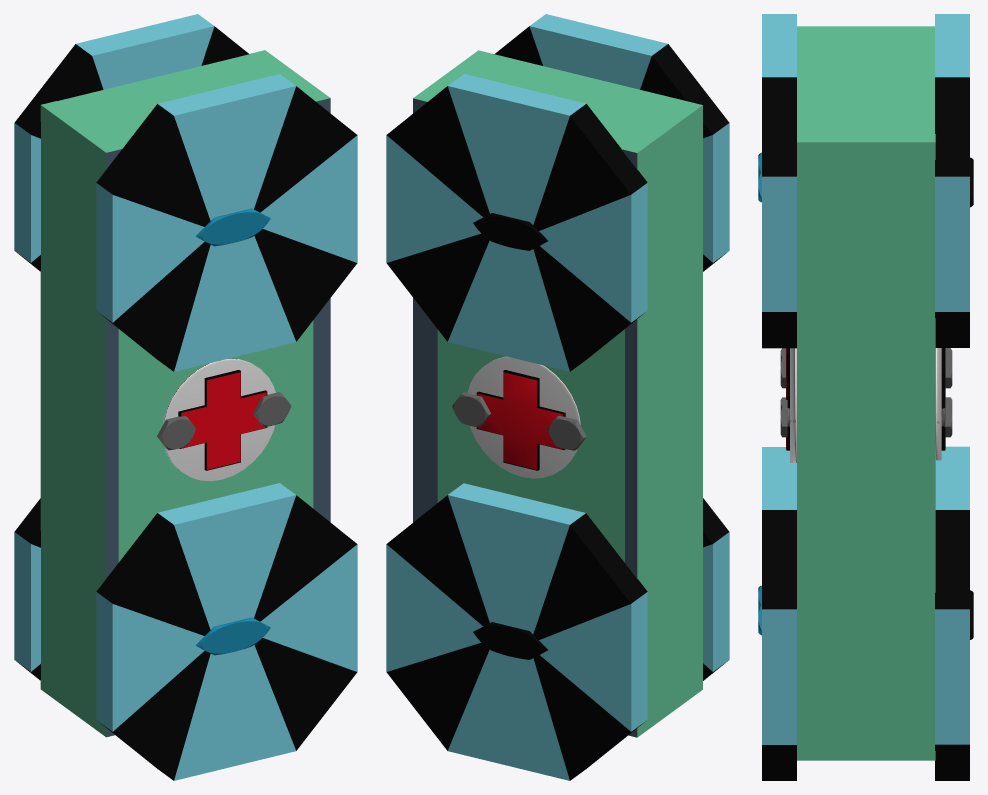
File: power up health.fbx
3 renders of one model, left to right at view 1: azimuth 30°, elevation 25°; view 2: azimuth 150°, elevation 25°; view 3: azimuth 270°, elevation 25°, orthographic. The views are drawn at different scales.
Visible parts, largest first — view 1: Cube, Cube.002, Cube.004, Cube.009, Cylinder, Cube.003, Cube.010, Bolt.001, Bolt.003, Cube.001; view 2: Cube, Cube.009, Cube.010, Cube.002, Cylinder.001, Cube.006, Cube.004, Bolt.002, Bolt.004; view 3: Cube, Cube.002, Cube.009, Cube.010, Cube.004, Cylinder, Cylinder.001, Cube.005.
Part boxes in pixels (box(x1,y1,x2,y2)): Cube: box(40, 50, 330, 737); Cube.002: box(96, 74, 357, 371); Cube.004: box(96, 483, 357, 780); Cube.009: box(14, 14, 249, 271); Cylinder: box(163, 358, 275, 481); Cube.003: box(181, 372, 266, 469); Cube.010: box(14, 498, 40, 680); Bolt.001: box(195, 208, 270, 246); Bolt.003: box(195, 617, 270, 655); Cube.001: box(178, 370, 267, 470); Cube: box(413, 50, 702, 737); Cube.009: box(386, 74, 647, 371); Cube.010: box(386, 483, 647, 780); Cube.002: box(494, 14, 729, 271); Cylinder.001: box(467, 356, 580, 478); Cube.006: box(477, 372, 562, 469); Cube.004: box(703, 498, 729, 680); Bolt.002: box(473, 213, 547, 250); Bolt.004: box(473, 622, 547, 659); Cube: box(780, 26, 952, 760); Cube.002: box(762, 14, 796, 348); Cube.009: box(935, 14, 969, 347); Cube.010: box(935, 446, 969, 780); Cube.004: box(762, 447, 796, 780); Cylinder: box(790, 348, 796, 462); Cylinder.001: box(935, 348, 941, 460); Cube.005: box(941, 348, 945, 450).
Bounding box in the file's own units: 112 × 290 × 80.49.
